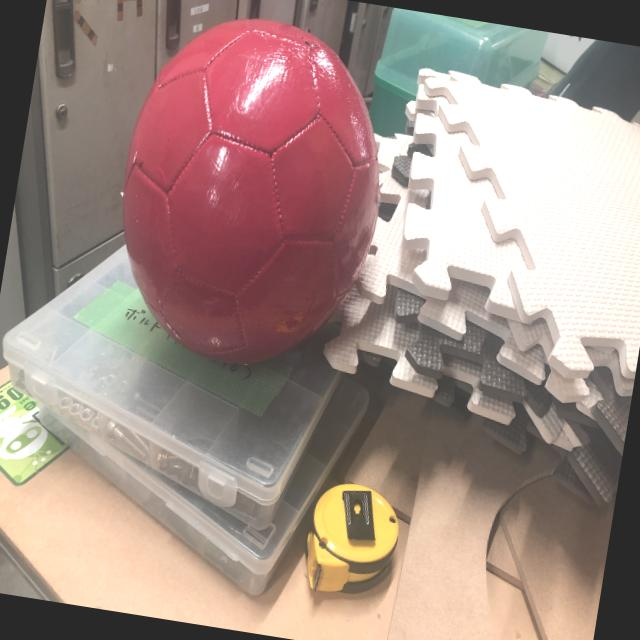red_ball: (98, 2, 404, 384)
